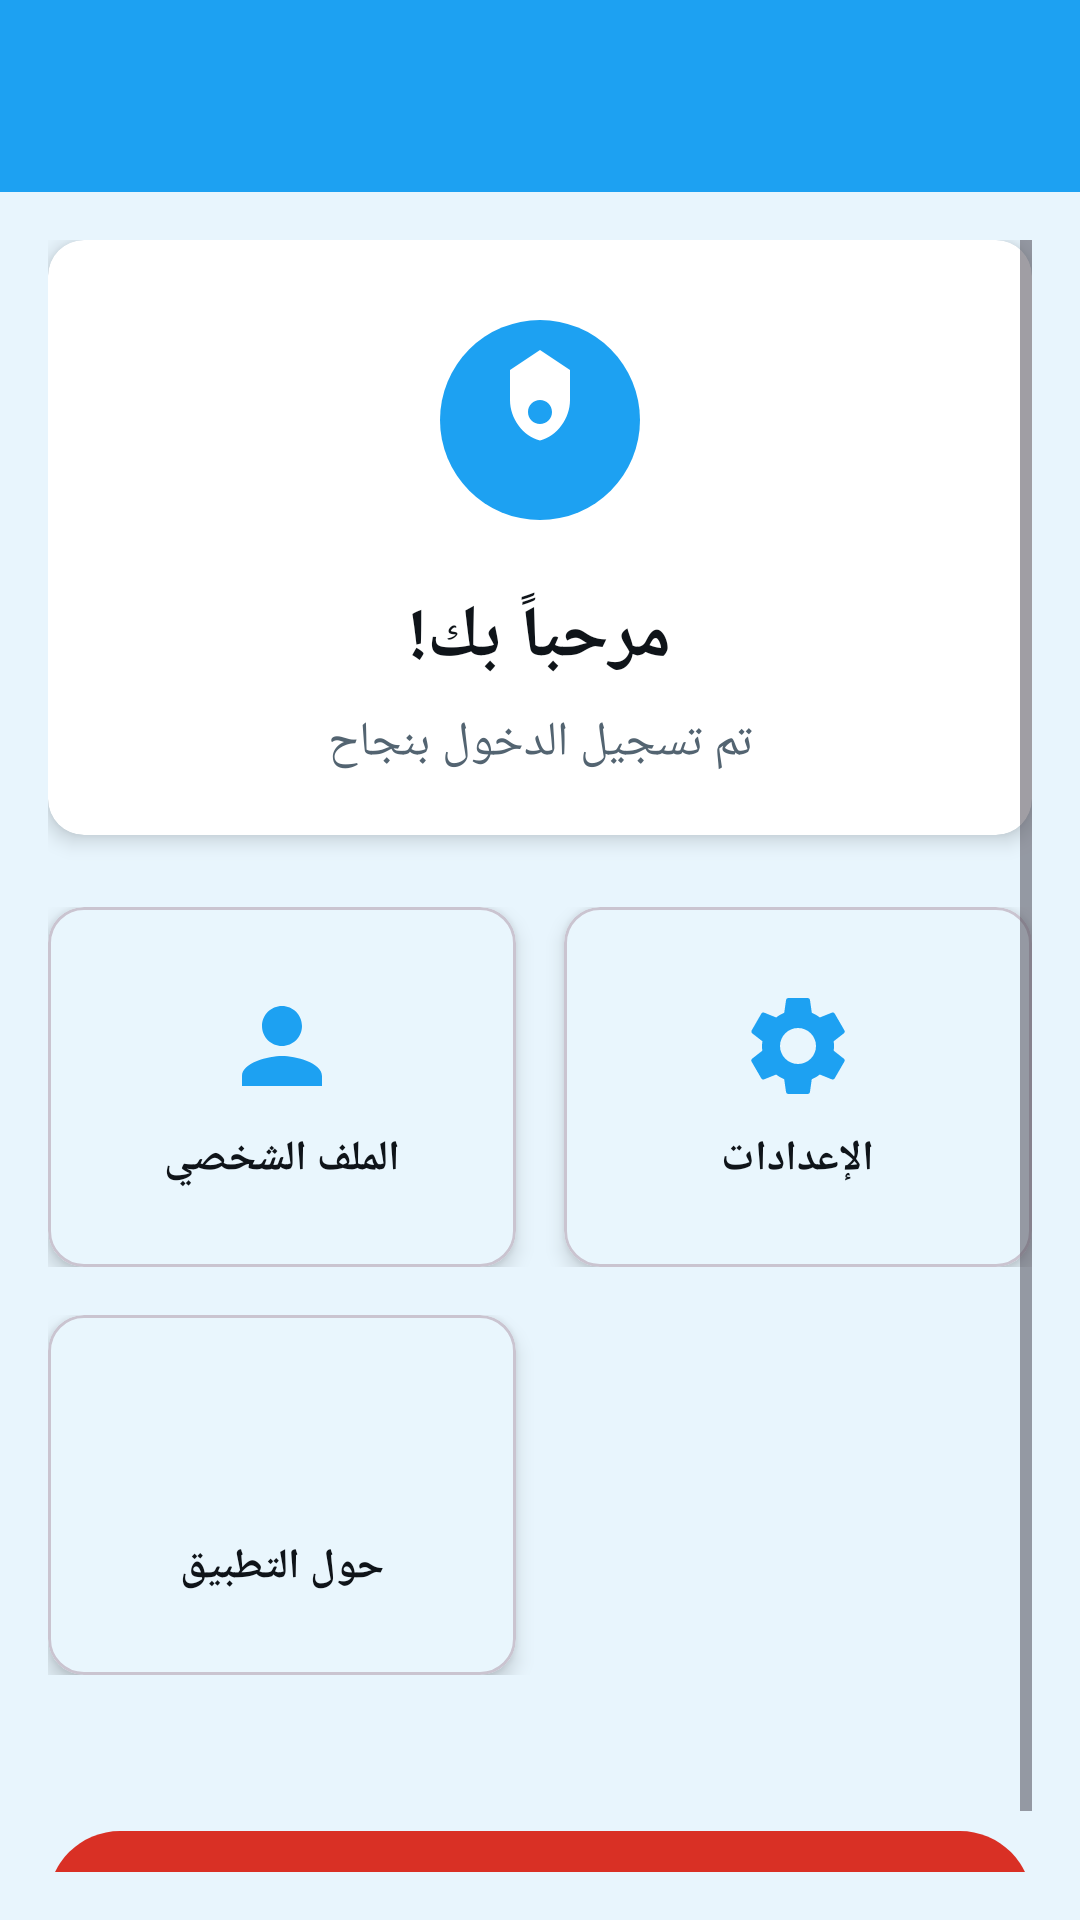

Named icons in this screenshot (1080w x 1920h) and their bounding boxes, (left=x1, top=y1, right=x2, bottom=y2):
person: (left=242, top=1006, right=322, bottom=1086)
settings: (left=751, top=998, right=845, bottom=1094)
